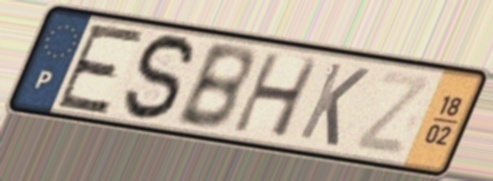B: (171, 42, 255, 133)
E: (52, 22, 150, 117)
H: (228, 49, 323, 141)
K: (294, 59, 373, 150)
S: (119, 31, 200, 125)
Z: (349, 68, 438, 160)
